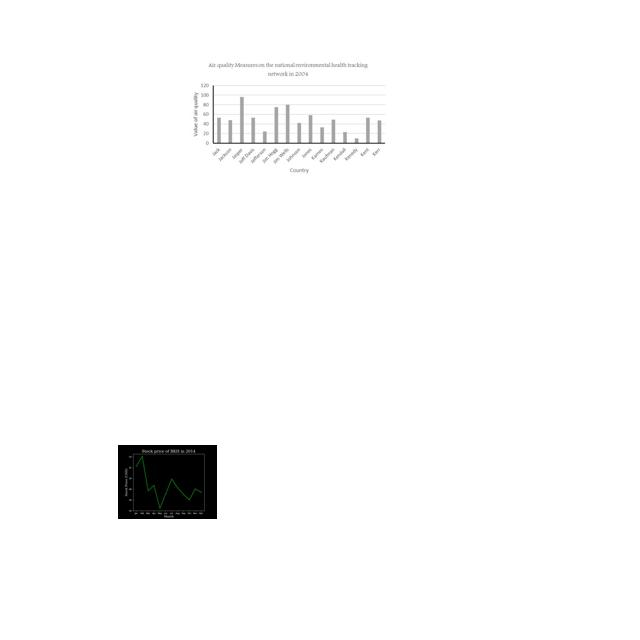Graph: (187, 57, 387, 177), (118, 445, 217, 519)
